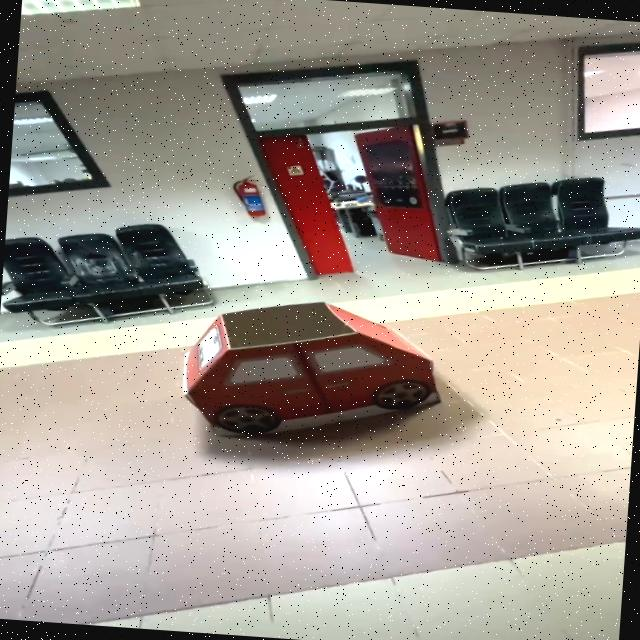red_car: (169, 274, 460, 460)
